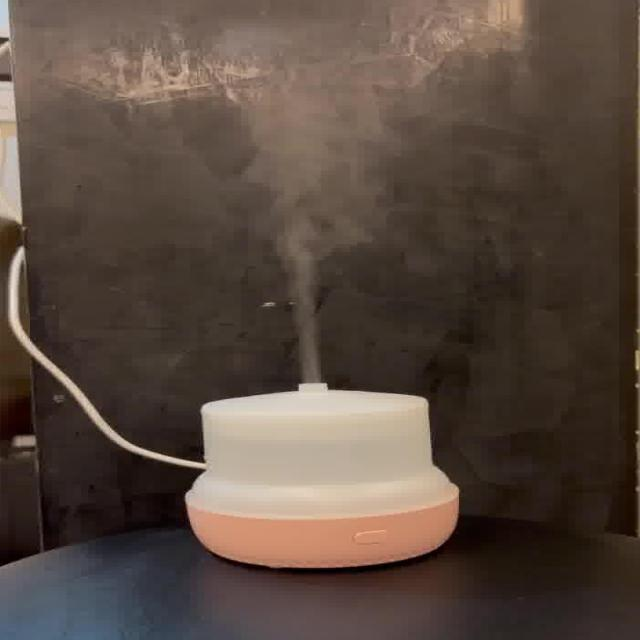fire: (235, 72, 410, 378)
